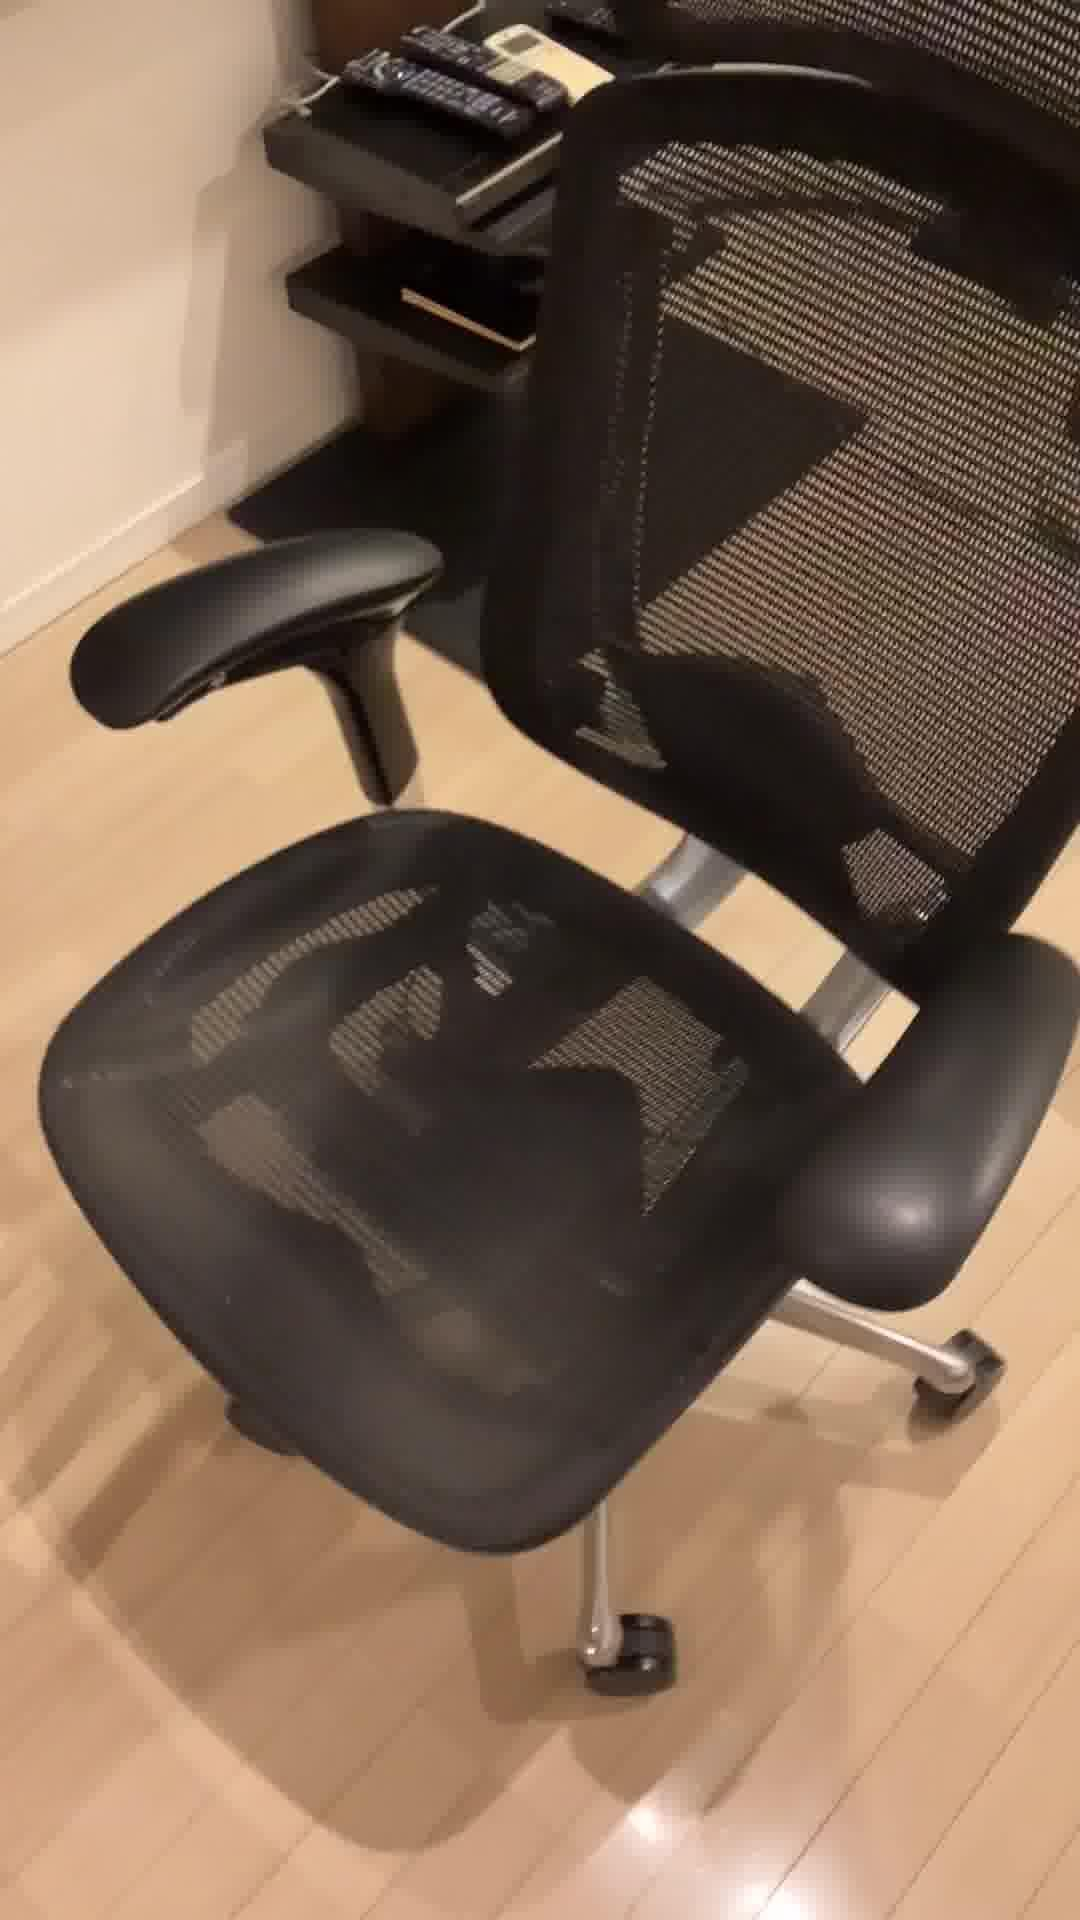okamura-contessa: (38, 0, 1080, 1696)
